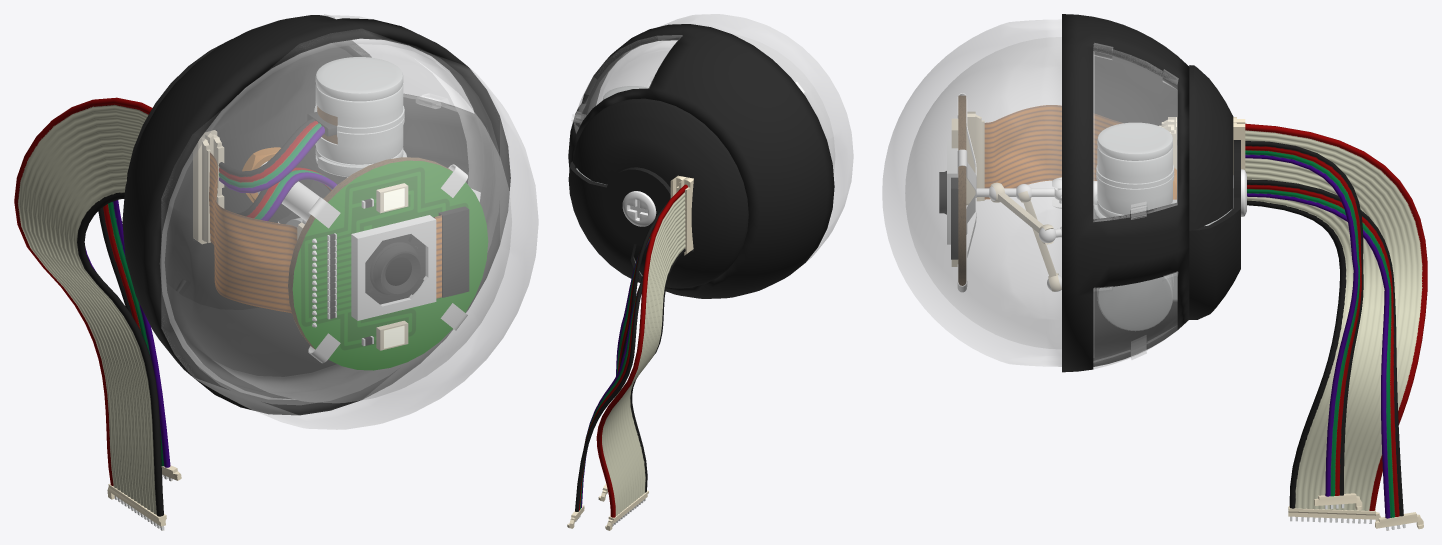
3 renders of one model, left to right at view 1: azimuth 30°, elevation 25°; view 2: azimuth 150°, elevation 25°; view 3: azimuth 270°, elevation 25°, orthographic. The views are drawn at different scales.
Parts seen in each view (by area): view 1: Ball_Front_LP_38, Ball_Rear_LP_18, Bus_Wiring_LP_22, PCB_LP_33, Ball_Cap_LP_17, StepperSide_LP_37, Bus_LP_21, Camera_Main_LP_23, Chips_LP_24, Ports_LP_34, Glass_Cap_LP_26, Bracket_LP_20 (+1 smaller); view 2: Ball_Rear_LP_18, Ball_Cap_LP_17, Bus_Wiring_LP_22, Ball_Front_LP_38, Cover_LP_25, Glass_Cap_LP_26, Ports_LP_34, Axis_LP_15; view 3: Ball_Front_LP_38, Bus_Wiring_LP_22, Ball_Rear_LP_18, Glass_Cap_LP_26, StepperSide_LP_37, Ball_Cap_LP_17, Bus_LP_21, Glass_Cap_LP.001_27, Cover_LP_25, Ports_LP_34, StepperBottom_LP_36, PCB_LP_33 (+6 smaller).
Boxes of the visible parts, x1=… form: Ball_Front_LP_38: x1=160, y1=29, x2=538, y2=429; Ball_Rear_LP_18: x1=122, y1=15, x2=510, y2=415; Bus_Wiring_LP_22: x1=14, y1=97, x2=337, y2=516; PCB_LP_33: x1=288, y1=157, x2=488, y2=370; Ball_Cap_LP_17: x1=127, y1=39, x2=352, y2=309; StepperSide_LP_37: x1=307, y1=57, x2=406, y2=177; Bus_LP_21: x1=209, y1=152, x2=441, y2=313; Camera_Main_LP_23: x1=351, y1=215, x2=436, y2=320; Chips_LP_24: x1=312, y1=183, x2=469, y2=350; Ports_LP_34: x1=107, y1=130, x2=304, y2=530; Glass_Cap_LP_26: x1=322, y1=14, x2=472, y2=111; Bracket_LP_20: x1=308, y1=164, x2=467, y2=363; Ball_Rear_LP_18: x1=568, y1=24, x2=834, y2=298; Ball_Cap_LP_17: x1=572, y1=98, x2=748, y2=288; Bus_Wiring_LP_22: x1=575, y1=184, x2=687, y2=517; Ball_Front_LP_38: x1=587, y1=14, x2=853, y2=260; Cover_LP_25: x1=568, y1=161, x2=670, y2=282; Glass_Cap_LP_26: x1=571, y1=35, x2=682, y2=133; Ports_LP_34: x1=567, y1=175, x2=693, y2=530; Axis_LP_15: x1=622, y1=191, x2=656, y2=226; Ball_Front_LP_38: x1=882, y1=19, x2=1094, y2=366; Bus_Wiring_LP_22: x1=1245, y1=123, x2=1427, y2=518; Ball_Rear_LP_18: x1=1062, y1=14, x2=1189, y2=372; Glass_Cap_LP_26: x1=1093, y1=43, x2=1178, y2=221; StepperSide_LP_37: x1=1094, y1=122, x2=1232, y2=225; Ball_Cap_LP_17: x1=1177, y1=65, x2=1233, y2=312; Bus_LP_21: x1=984, y1=105, x2=1122, y2=199; Glass_Cap_LP.001_27: x1=1093, y1=271, x2=1178, y2=368; Cover_LP_25: x1=1189, y1=140, x2=1240, y2=319; Ports_LP_34: x1=966, y1=111, x2=1423, y2=530; StepperBottom_LP_36: x1=1097, y1=272, x2=1177, y2=330; PCB_LP_33: x1=958, y1=95, x2=966, y2=285.
Size of the model in its own units: 2.41 by 3.78 by 3.66.
Materials: 16 (8 with a texture image).
